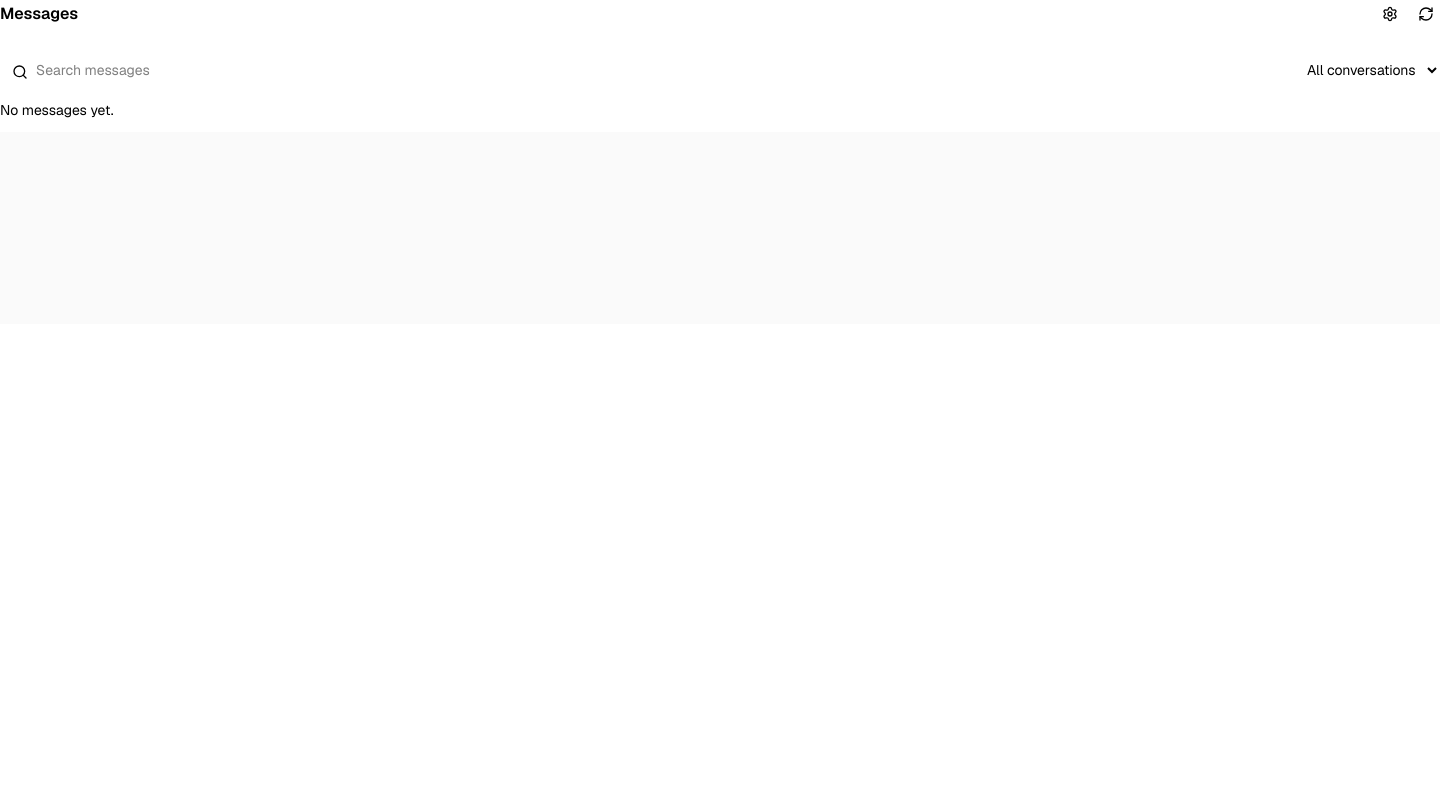
Test case: never asks for a messaging password even in settings
The image size is (1440, 810).
Click the button named "Message settings": (1390, 14) [1376,0,1404,28]
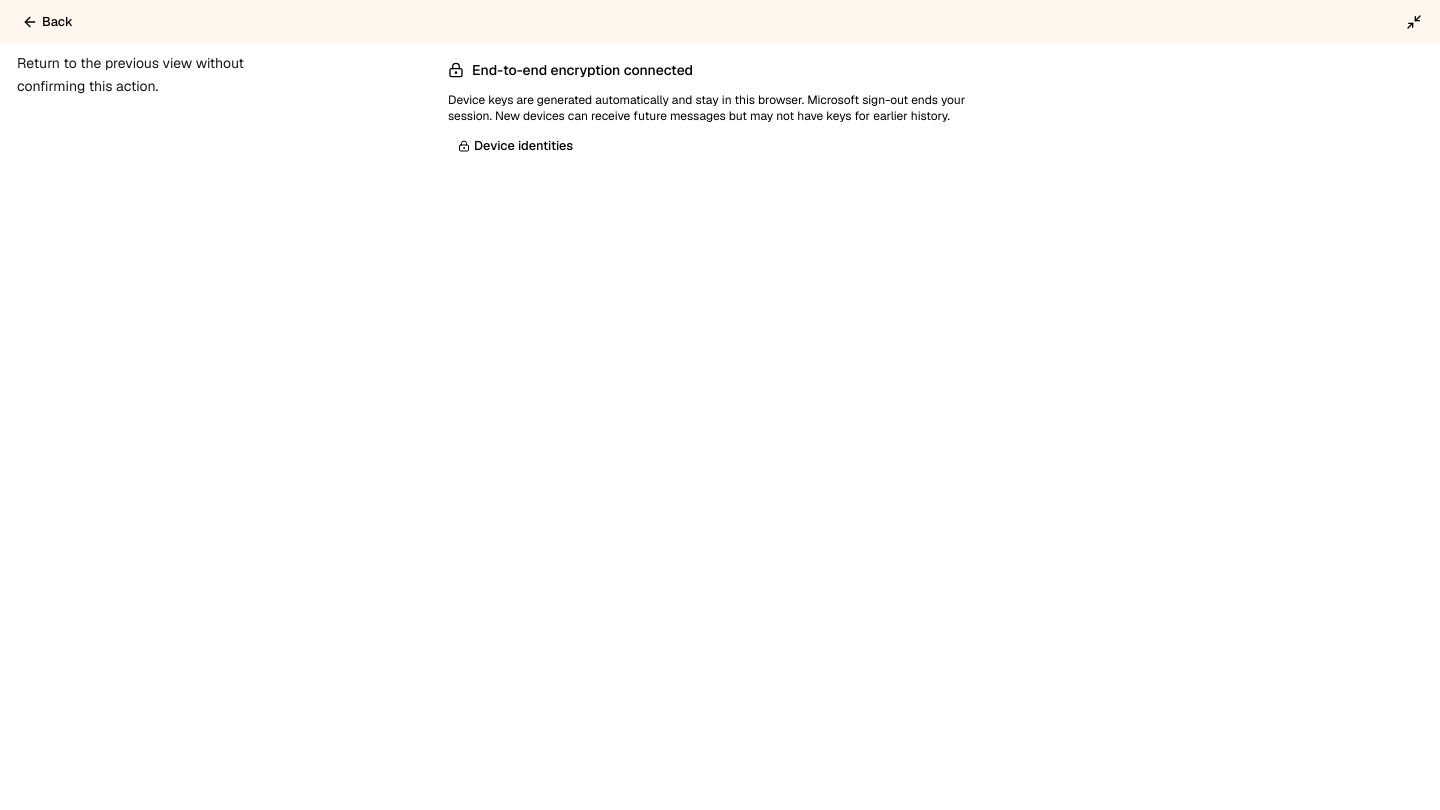
expect the text "End-to-end encryption connected" is shown: met, box [448,60,693,80]
